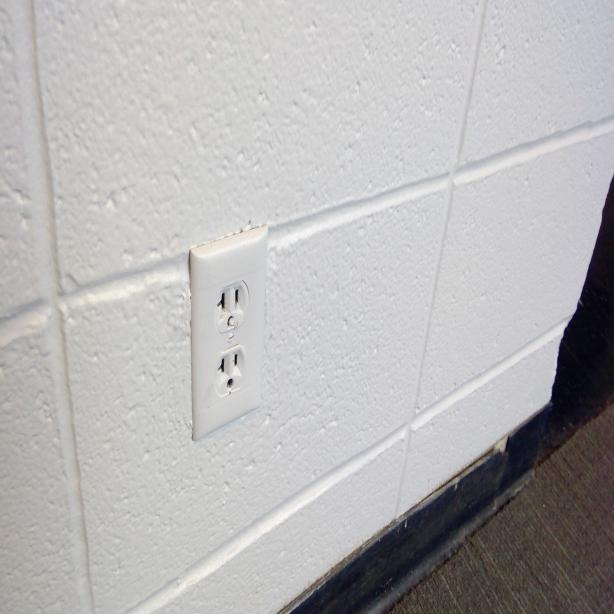typeb: (211, 278, 247, 334), (214, 348, 251, 394)
